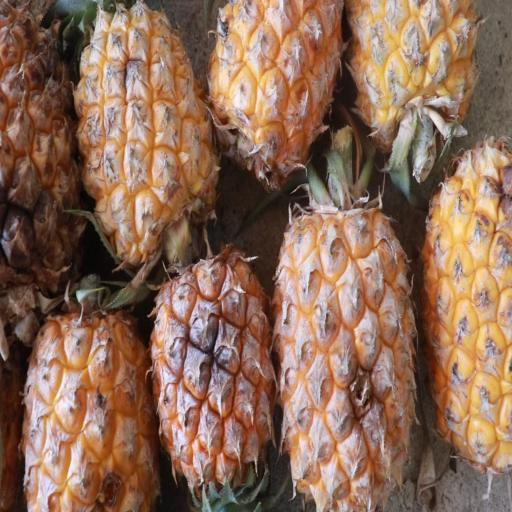Pineapple - v8 v1: (273, 182, 421, 512), (74, 0, 225, 259), (150, 243, 281, 508), (18, 264, 159, 509), (416, 140, 510, 476), (0, 0, 88, 338), (208, 0, 344, 191), (335, 0, 467, 167)
